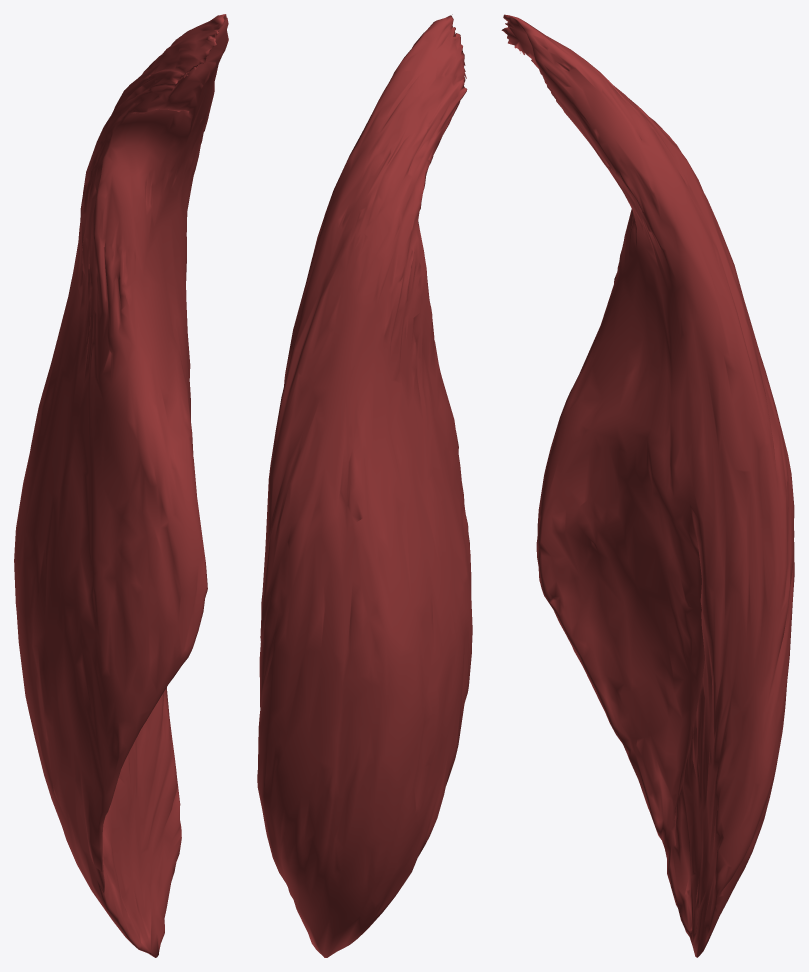
Rendered from medial-head-of-gastrocnemius-l.glb.
3 views of the same model, side by side, from view 1: azimuth 30°, elevation 25°; view 2: azimuth 150°, elevation 25°; view 3: azimuth 270°, elevation 25° (orthographic). The views are drawn at different scales.
Visible parts, largest first — view 1: Medial head of gastrocnemius.l; view 2: Medial head of gastrocnemius.l; view 3: Medial head of gastrocnemius.l.
Part boxes in pixels (x1,y1,x2,y2): Medial head of gastrocnemius.l: (14,14,228,957); Medial head of gastrocnemius.l: (257,14,472,957); Medial head of gastrocnemius.l: (501,14,794,957).
Size of the model in its own units: 0.0511 by 0.2997 by 0.086.
